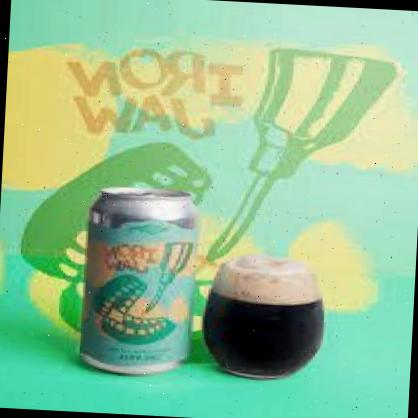can: (78, 183, 199, 380)
